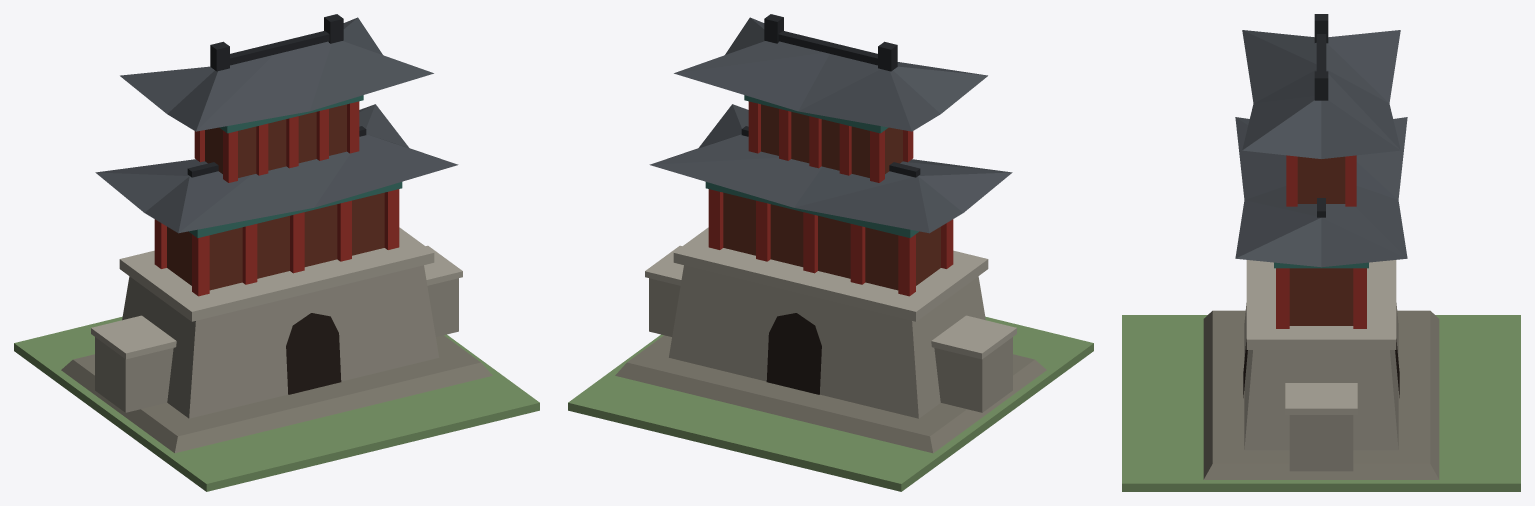
Rendered from pagodeKaesong.glb.
3 views of the same model, side by side, from view 1: azimuth 30°, elevation 25°; view 2: azimuth 150°, elevation 25°; view 3: azimuth 270°, elevation 25° (orthographic). The views are drawn at different scales.
Visible parts, largest first — view 1: pagodeKaesong; view 2: pagodeKaesong; view 3: pagodeKaesong.
Part boxes in pixels (left/top/right/bottom): pagodeKaesong: left=14, top=14, right=539, bottom=491; pagodeKaesong: left=568, top=14, right=1093, bottom=491; pagodeKaesong: left=1122, top=14, right=1520, bottom=491.
Bounding box in the file's own units: 1.78 × 1.76 × 1.76.
